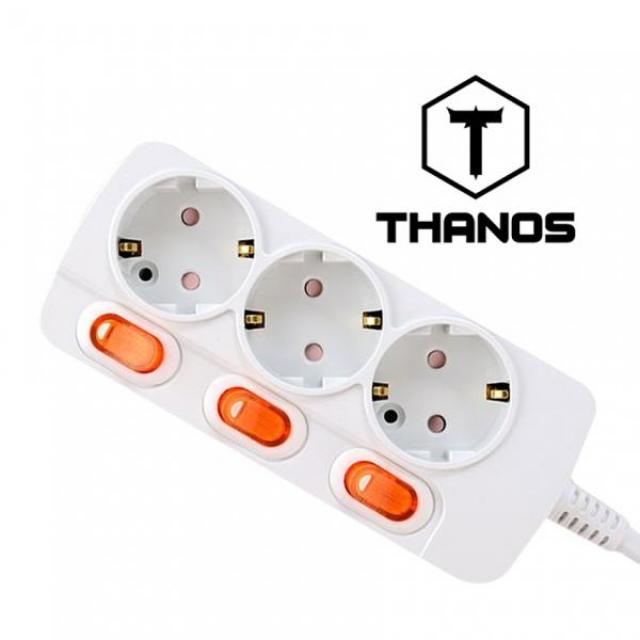typeb: (40, 120, 612, 595)
